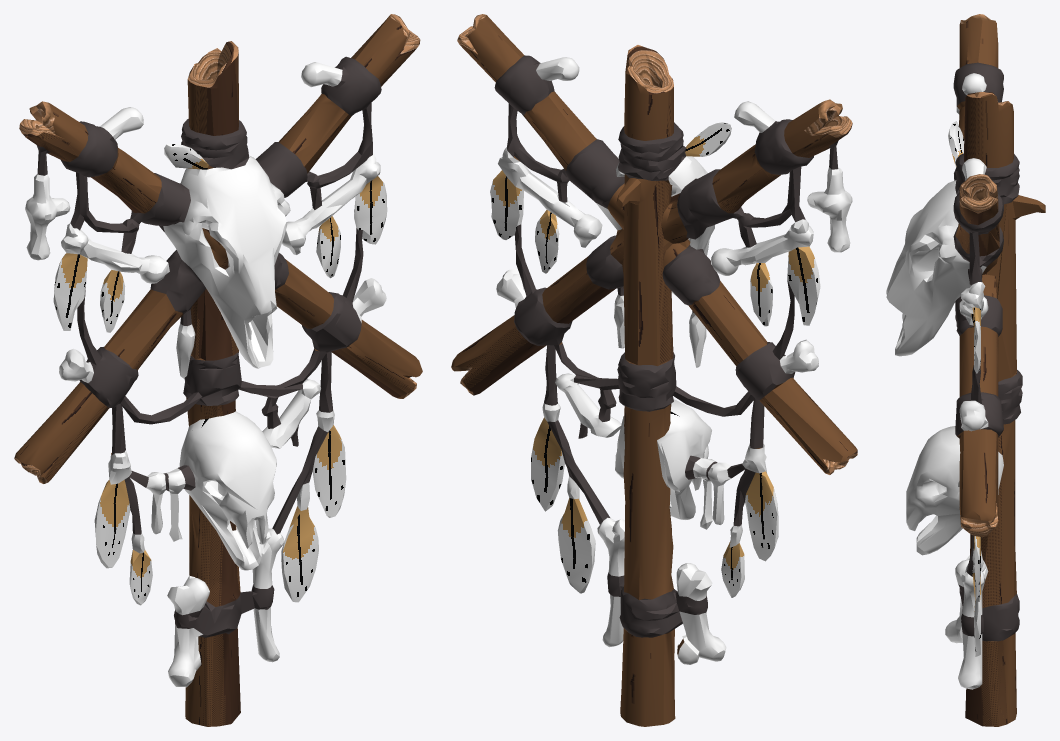
File: Totem.fbx
3 renders of one model, left to right at view 1: azimuth 30°, elevation 25°; view 2: azimuth 150°, elevation 25°; view 3: azimuth 270°, elevation 25°, orthographic. The views are drawn at different scales.
Visible parts, largest first — view 1: Totem; view 2: Totem; view 3: Totem.
Boxes of the visible parts, x1,y1,x2,y2 form: Totem: (14,14,422,726); Totem: (451,14,857,726); Totem: (886,14,1045,726).
Bounding box in the file's own units: 1053 × 383 × 1677.
Materials: 2 (2 with a texture image).
